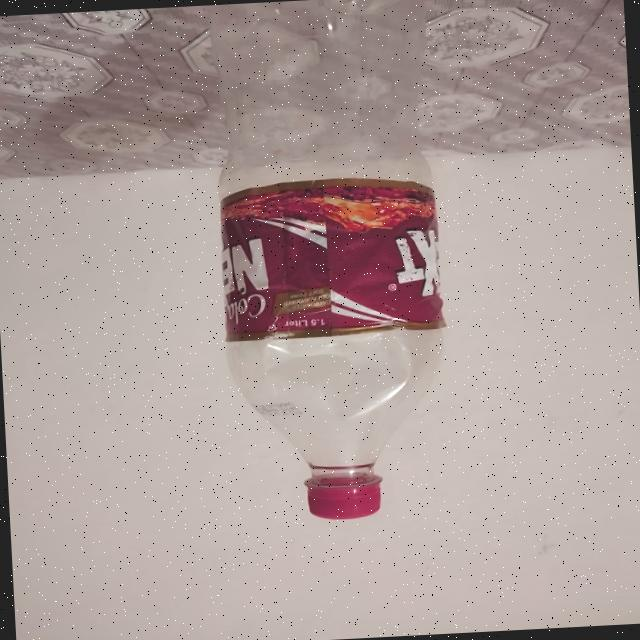bottle: (212, 0, 452, 525)
cap: (308, 478, 383, 519)
label: (218, 176, 450, 342)
